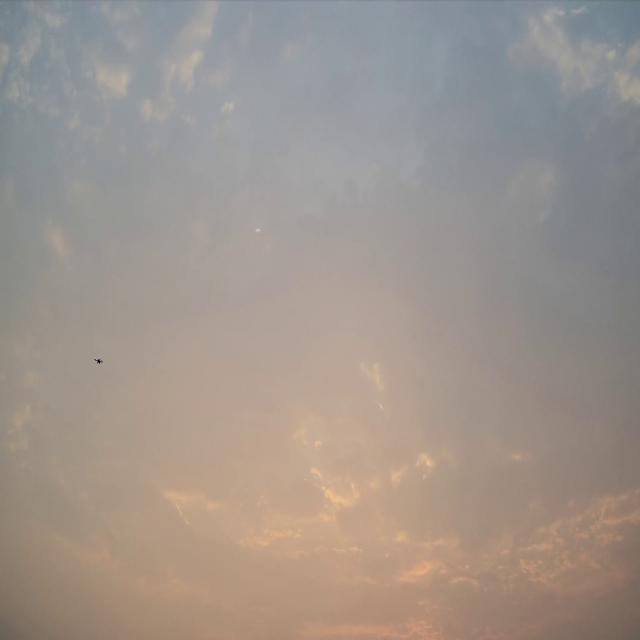UAV: (93, 358, 103, 364)
